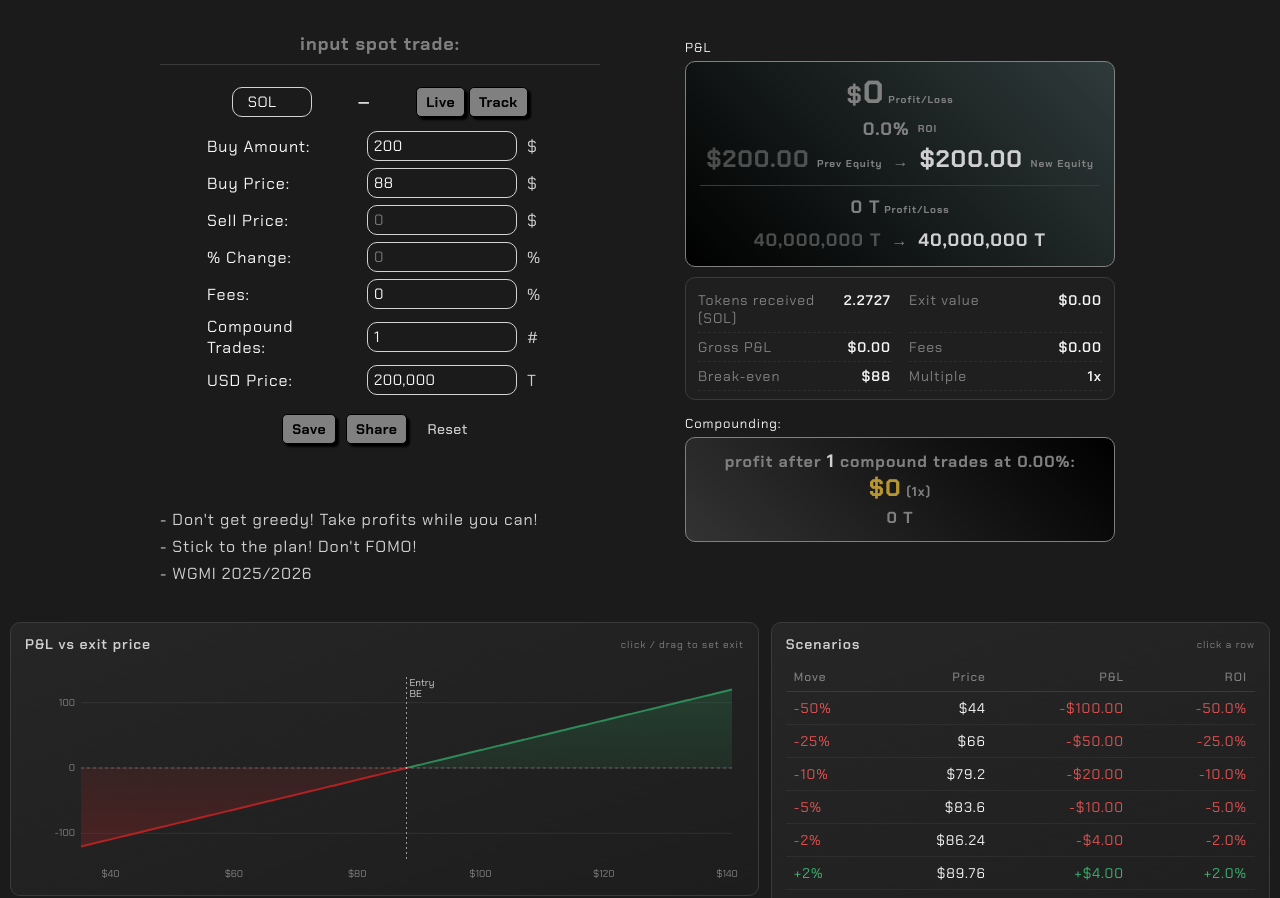
Scenario: Spot calculator inputs (no jumping) › types a sell price without the % field rewriting it
Type "100.5" into the field named "Sell Price". click: [442, 220]
box: [367,205,517,235]
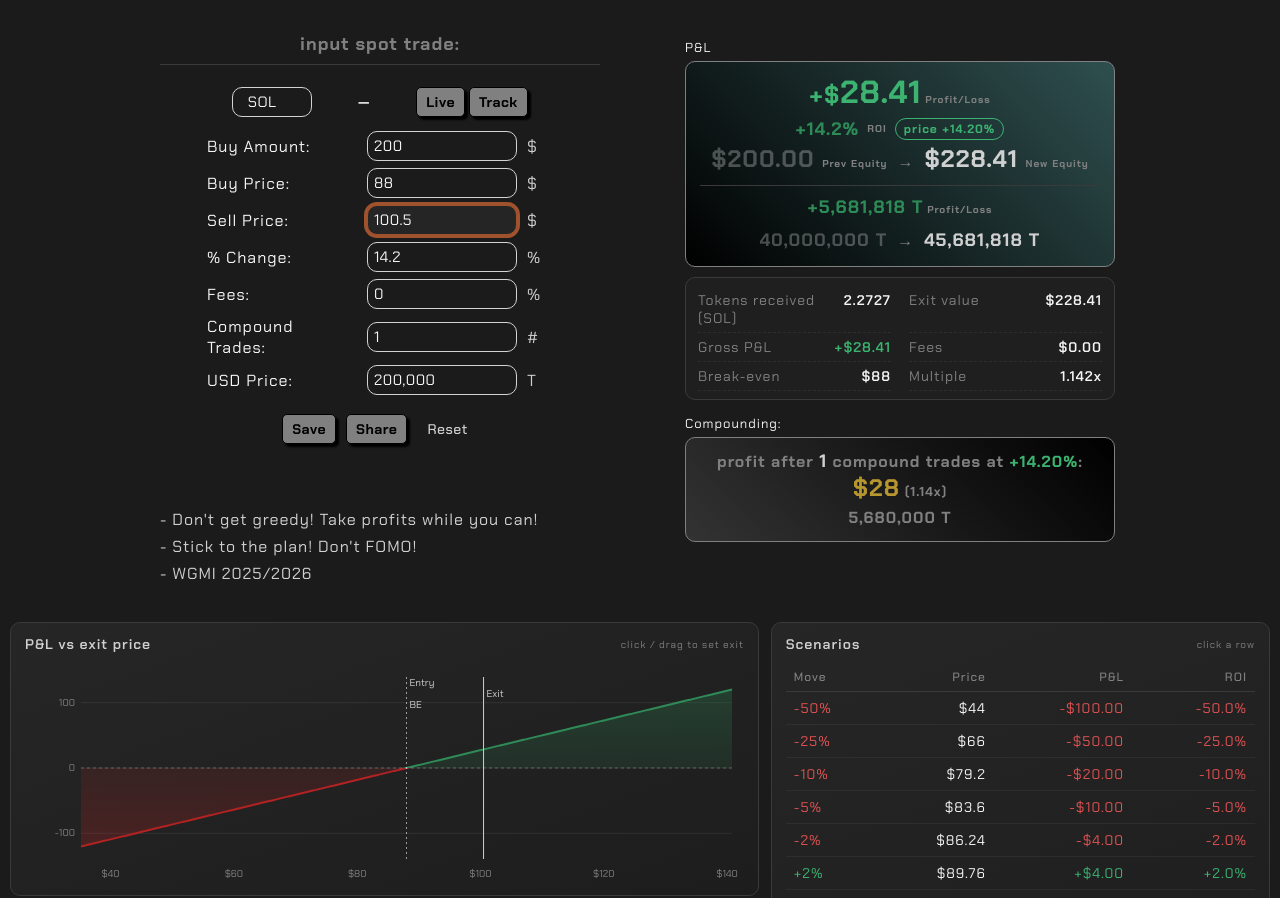
Expected: the field named "% Change" holds "14.2"
// Switching back to % keeps sell derived and stable.
Replace the text in the field named "% Change" with "10". click: [442, 257]
box: [367,242,517,272]
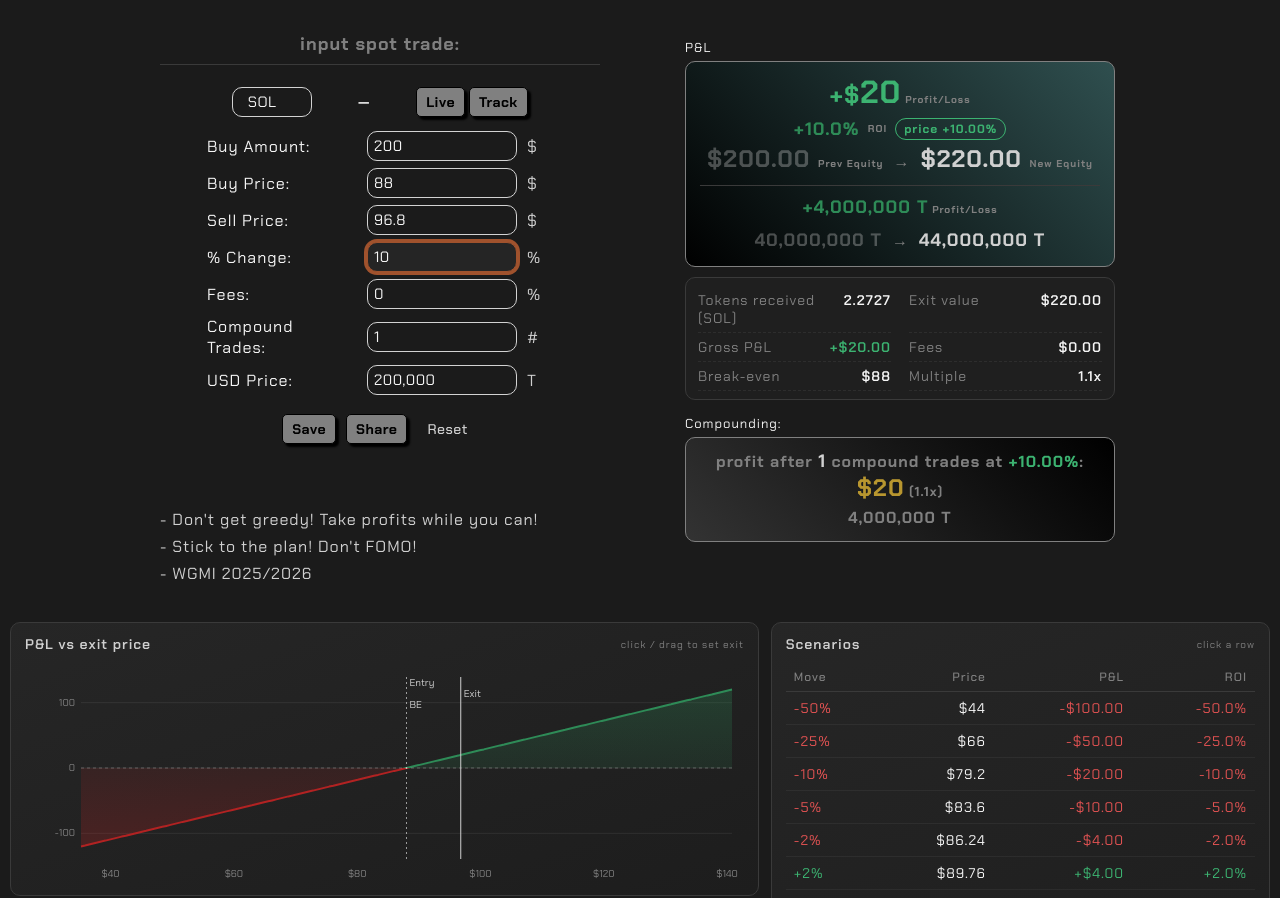
Expected: the field named "Sell Price" holds "96.8", [367,205,517,235]
